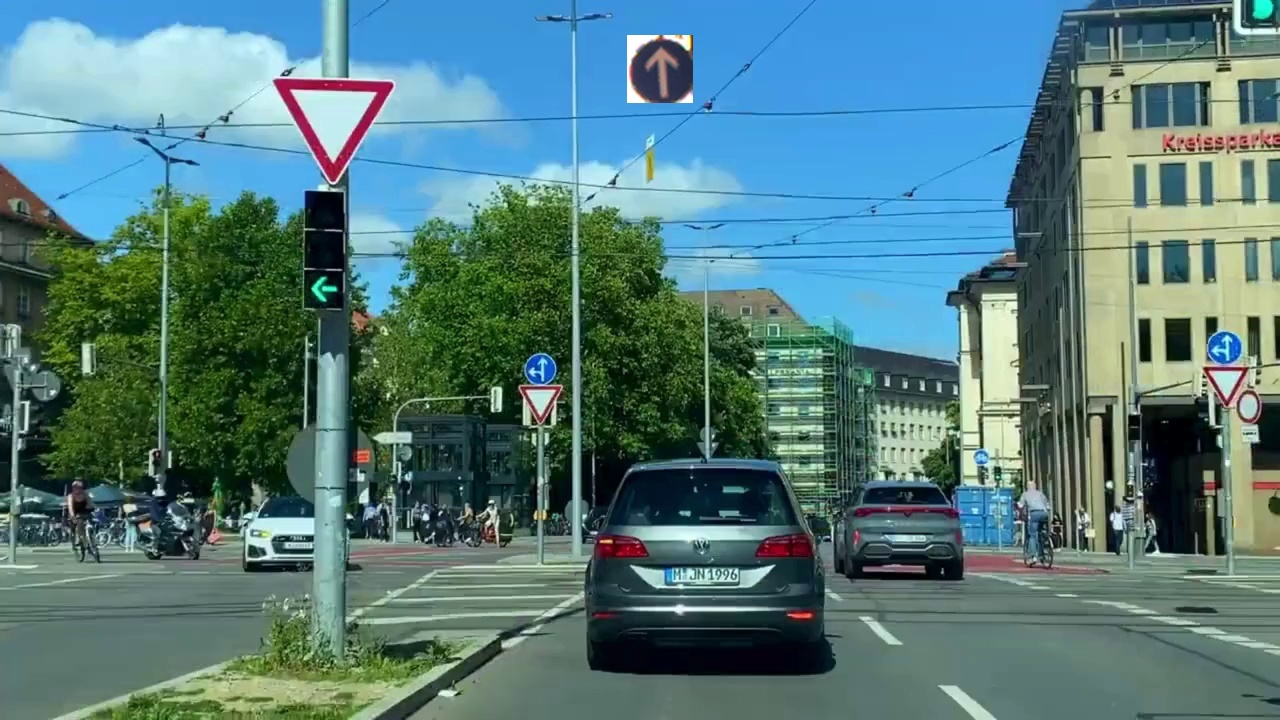Ahead only: (627, 35, 693, 103)
